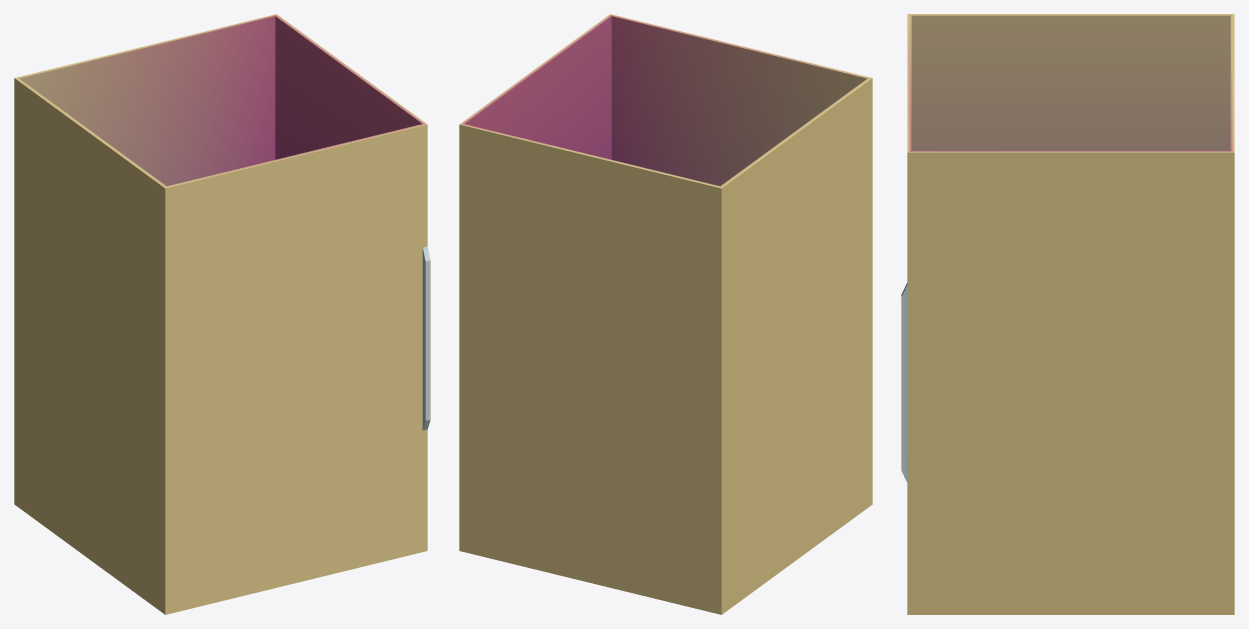
3 views of the same model, side by side, from view 1: azimuth 30°, elevation 25°; view 2: azimuth 150°, elevation 25°; view 3: azimuth 270°, elevation 25° (orthographic). The views are drawn at different scales.
Visible parts, largest first — view 1: walls, edge_strip; view 2: walls; view 3: walls, edge_strip.
Boxes of the visible parts, left/top/right/bottom form: walls: left=14, top=14, right=427, bottom=614; edge_strip: left=422, top=246, right=430, bottom=430; walls: left=459, top=14, right=872, bottom=614; walls: left=907, top=14, right=1234, bottom=614; edge_strip: left=901, top=283, right=908, bottom=484.
Bounding box in the file's own units: 0.1585 × 0.2462 × 0.161.
